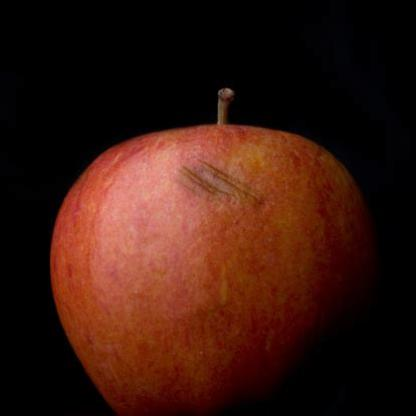defect: (172, 146, 274, 242)
